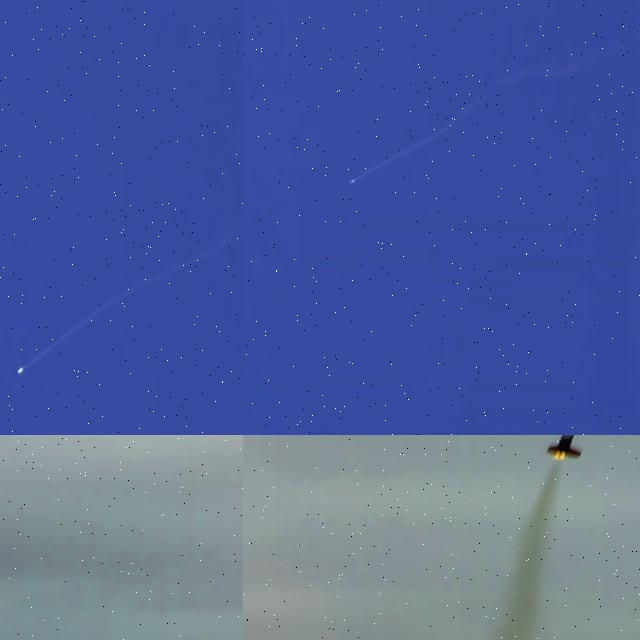Rocket: (547, 435, 597, 460), (17, 366, 24, 374), (350, 179, 354, 185)
